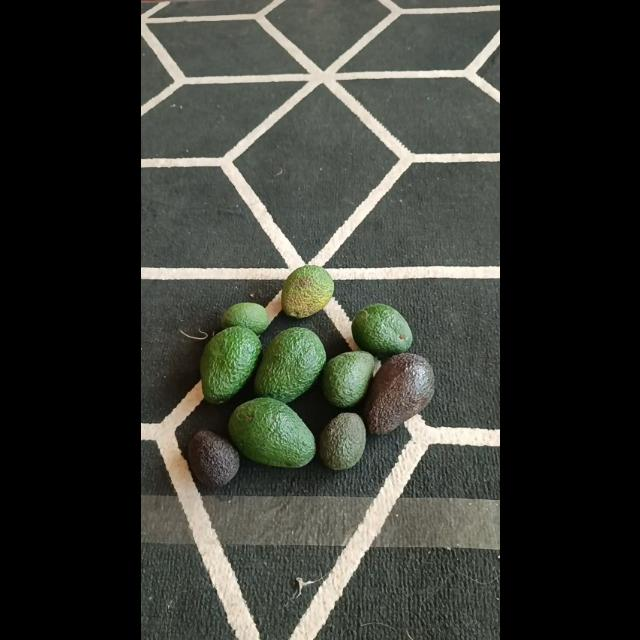Primera: (228, 397, 314, 468), (362, 352, 434, 433), (254, 327, 326, 403)
Segunda: (351, 304, 413, 358), (322, 350, 374, 408), (280, 264, 332, 318)
Tercera: (200, 325, 260, 403), (186, 428, 238, 488), (317, 410, 367, 470), (219, 300, 269, 336)
